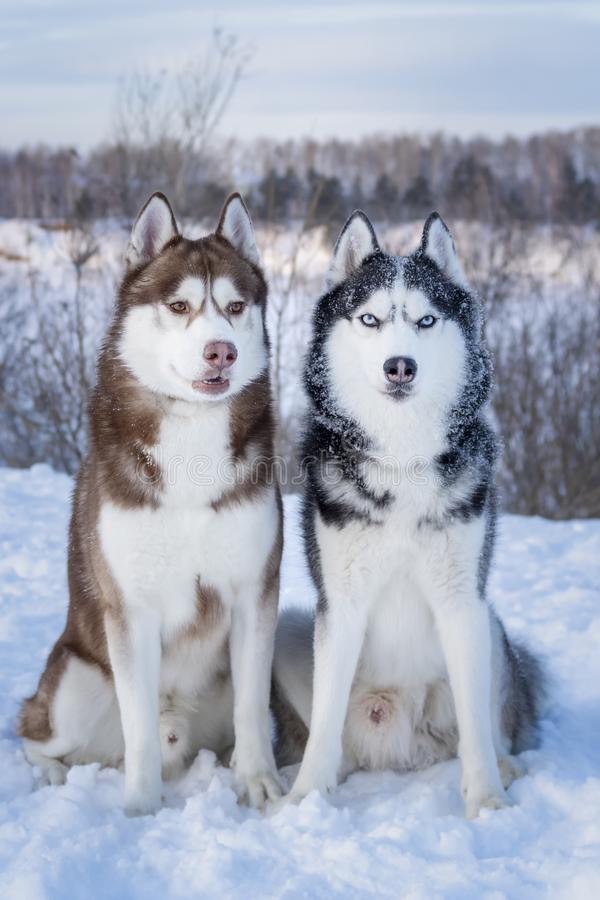husky: (294, 195, 528, 796), (72, 159, 287, 801)
